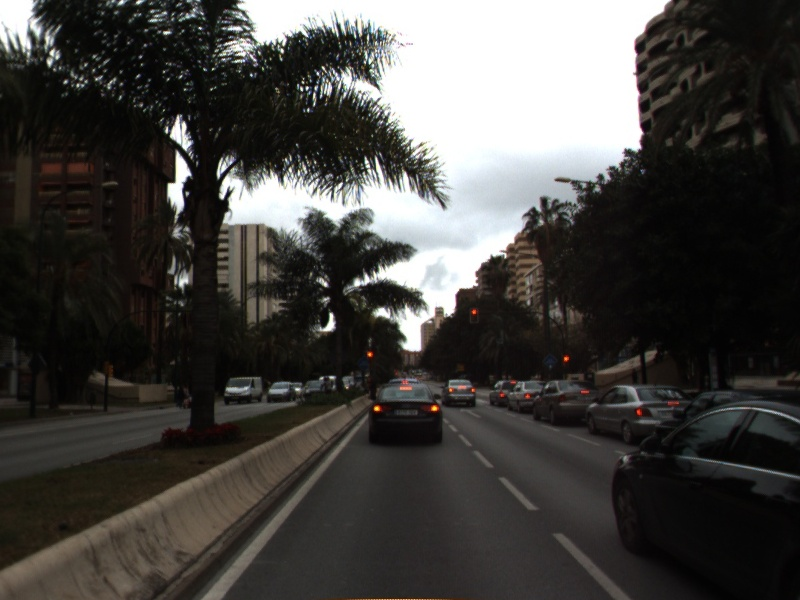STRAIGHT: (457, 405, 484, 420)
